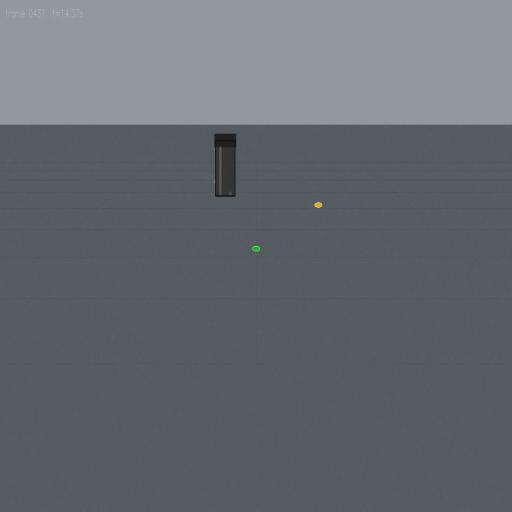bin: (214, 133, 237, 197)
